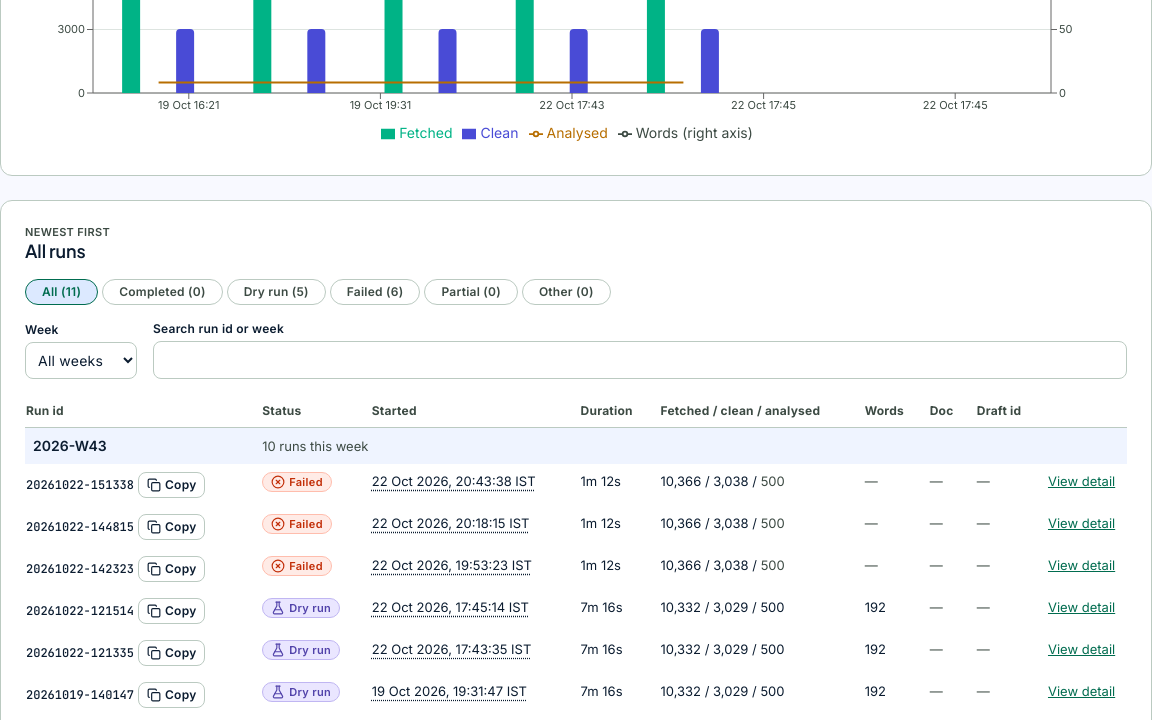
Test: runs table › filters by week
(page scrolled)
Step 1. Select "2026-W41" in the dropdown labelled "Week" → {"x": 81, "y": 360}, box x1=25 y1=342 x2=137 y2=379
(page scrolled)
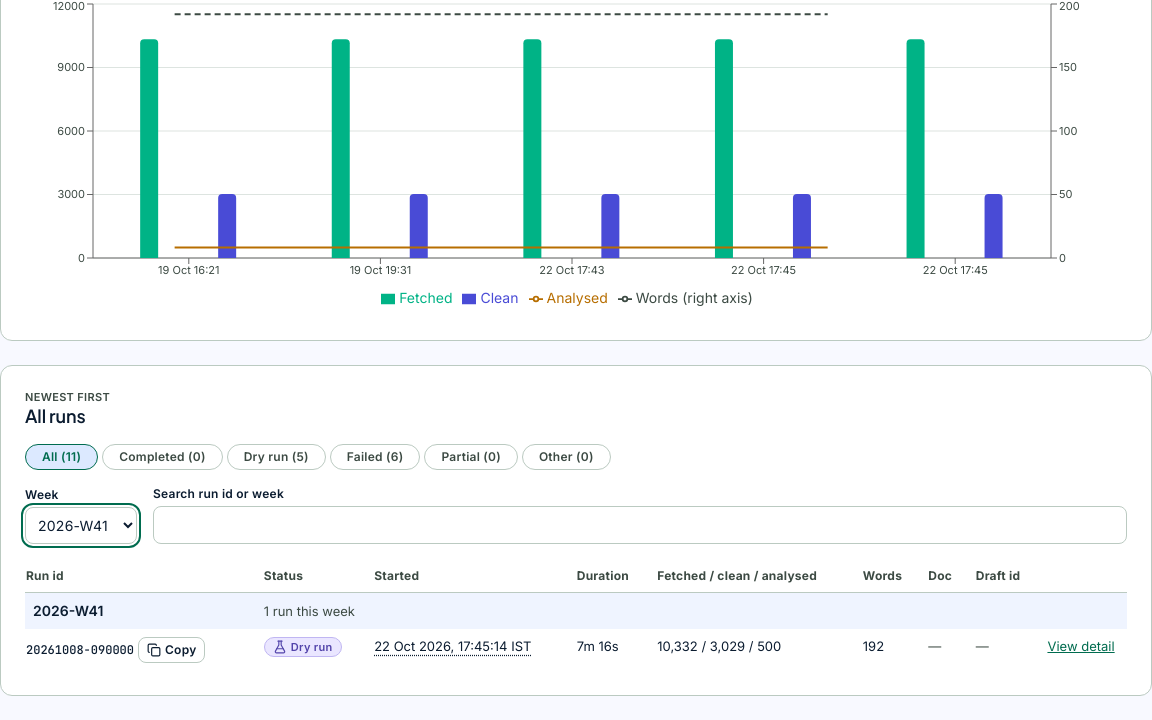
Check: the number of links "View detail" is 1, box x1=1047 y1=638 x2=1115 y2=654
